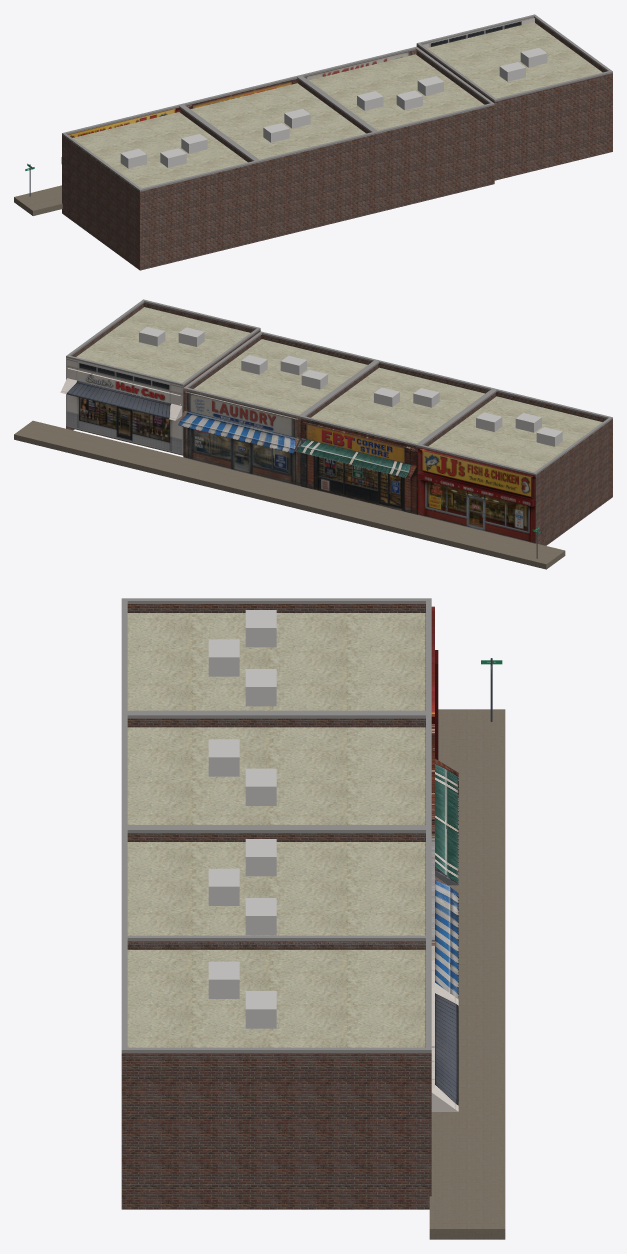
File: hero.glb
The picture shows the model from 3 angles, top to bottom: view 1: azimuth 30°, elevation 25°; view 2: azimuth 150°, elevation 25°; view 3: azimuth 270°, elevation 25°; orthographic projection. The views are drawn at different scales.
Parts seen in each view (by area): view 1: HERO_Susie's Hair Care.001, ROOF_Susie's Hair Care.001, PARAPET_Susie's Hair Care.001, RTU_Susie's Hair Care.001, SIDEWALK_hero.001, HERO_JJ's Fish & Chicken.001, HERO_Laundromat.001, HERO_EBT Corner Store.001; view 2: ROOF_Susie's Hair Care.001, HERO_Susie's Hair Care.001, SIDEWALK_hero.001, HERO_EBT Corner Store.001, HERO_Laundromat.001, HERO_JJ's Fish & Chicken.001, PARAPET_Susie's Hair Care.001, RTU_Susie's Hair Care.001; view 3: ROOF_Susie's Hair Care.001, HERO_Susie's Hair Care.001, SIDEWALK_hero.001, PARAPET_Susie's Hair Care.001, RTU_Susie's Hair Care.001, HERO_EBT Corner Store.001, HERO_Laundromat.001, HERO_JJ's Fish & Chicken.001.
Boxes of the visible parts, x1,y1,x2,y2 form: HERO_Susie's Hair Care.001: (62, 17, 612, 270); ROOF_Susie's Hair Care.001: (72, 22, 602, 188); PARAPET_Susie's Hair Care.001: (62, 14, 612, 191); RTU_Susie's Hair Care.001: (120, 47, 547, 168); SIDEWALK_hero.001: (14, 185, 62, 215); HERO_JJ's Fish & Chicken.001: (61, 107, 180, 163); HERO_Laundromat.001: (304, 50, 416, 80); HERO_EBT Corner Store.001: (186, 78, 298, 108); ROOF_Susie's Hair Care.001: (76, 307, 602, 472); HERO_Susie's Hair Care.001: (60, 302, 612, 545); SIDEWALK_hero.001: (14, 420, 565, 569); HERO_EBT Corner Store.001: (295, 418, 417, 514); HERO_Laundromat.001: (178, 389, 300, 486); HERO_JJ's Fish & Chicken.001: (417, 447, 535, 543); PARAPET_Susie's Hair Care.001: (66, 299, 612, 475); RTU_Susie's Hair Care.001: (139, 327, 562, 446); ROOF_Susie's Hair Care.001: (127, 613, 425, 1047); HERO_Susie's Hair Care.001: (121, 604, 458, 1209); SIDEWALK_hero.001: (429, 709, 505, 1239); PARAPET_Susie's Hair Care.001: (121, 598, 431, 1053); RTU_Susie's Hair Care.001: (208, 610, 276, 1028); HERO_EBT Corner Store.001: (431, 724, 458, 885); HERO_Laundromat.001: (431, 836, 458, 999); HERO_JJ's Fish & Chicken.001: (431, 606, 438, 759).
Size of the model in its own units: 63.5 by 9.9 by 19.8.
12 materials, 12 textured.
